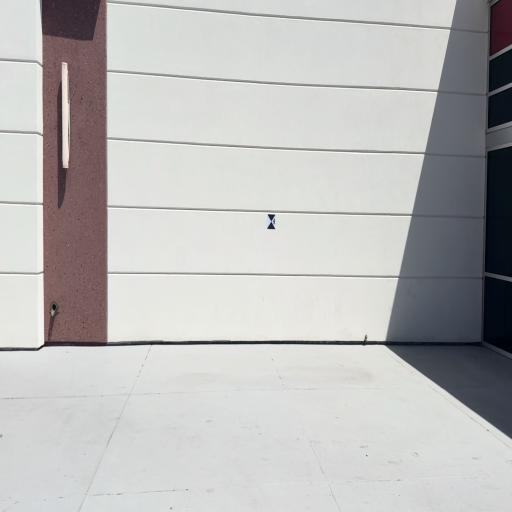target4: (267, 213, 276, 231)
